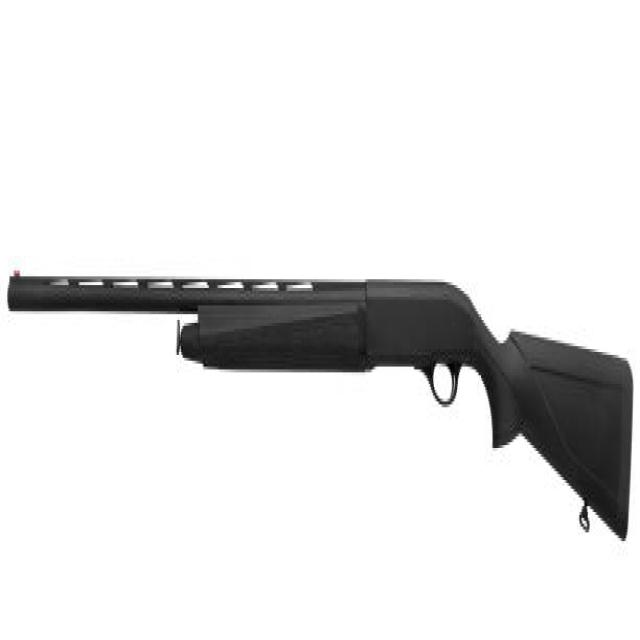rifle: (3, 247, 637, 567)
